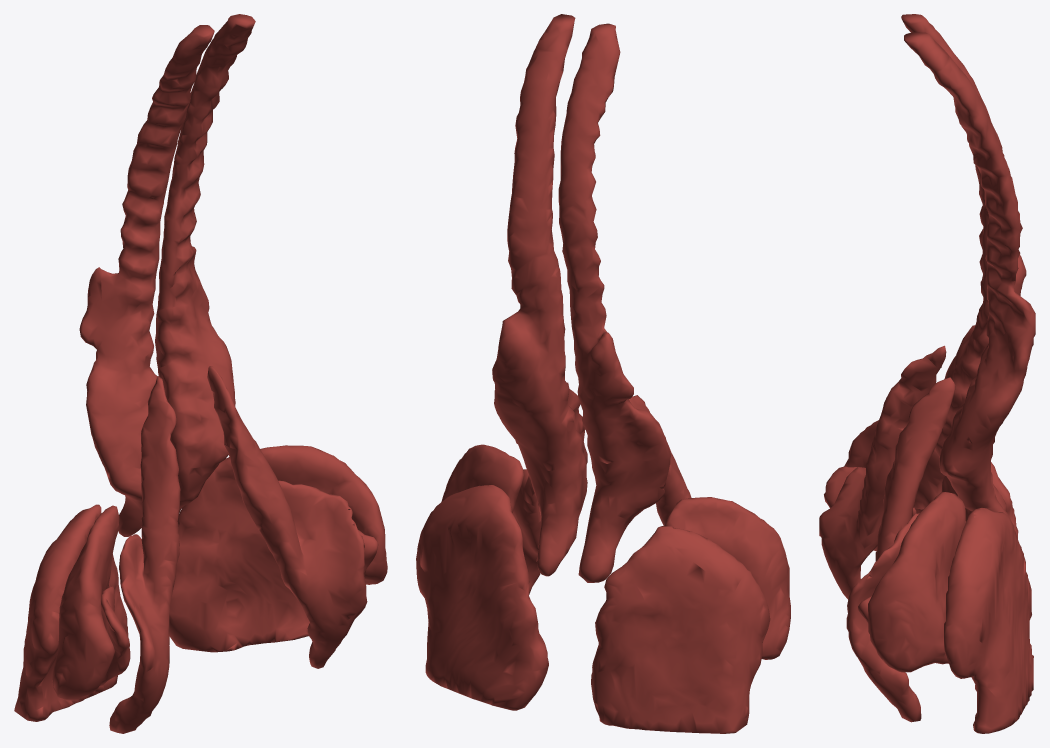
File: tsd_s0196_older_adult_female.muscular.LOD3.glb
3 views of the same model, side by side, from view 1: azimuth 30°, elevation 25°; view 2: azimuth 150°, elevation 25°; view 3: azimuth 270°, elevation 25° (orthographic). The views are drawn at different scales.
Parts seen in each view (by area): view 1: TSD_S0196.OLDER_ADULT.FEMALE.MUSCULAR.ERECTOR_SPINAE_AUTOCHT (×2), TSD_S0196.OLDER_ADULT.FEMALE.MUSCULAR.GLUTEUS_MAXIMUS.L, TSD_S0196.OLDER_ADULT.FEMALE.MUSCULAR.ILIOPSOAS.L, TSD_S0196.OLDER_ADULT.FEMALE.MUSCULAR.ILIOPSOAS.R, TSD_S0196.OLDER_ADULT.FEMALE.MUSCULAR.GLUTEUS_MAXIMUS.R, TSD_S0196.OLDER_ADULT.FEMALE.MUSCULAR.GLUTEUS_MEDIUS.R, TSD_S0196.OLDER_ADULT.FEMALE.MUSCULAR.GLUTEUS_MEDIUS.L, TSD_S0196.OLDER_ADULT.FEMALE.MUSCULAR.GLUTEUS_MINIMUS.R; view 2: TSD_S0196.OLDER_ADULT.FEMALE.MUSCULAR.ERECTOR_SPINAE_AUTOCHT (×2), TSD_S0196.OLDER_ADULT.FEMALE.MUSCULAR.GLUTEUS_MAXIMUS.R, TSD_S0196.OLDER_ADULT.FEMALE.MUSCULAR.GLUTEUS_MAXIMUS.L, TSD_S0196.OLDER_ADULT.FEMALE.MUSCULAR.GLUTEUS_MEDIUS.R, TSD_S0196.OLDER_ADULT.FEMALE.MUSCULAR.GLUTEUS_MEDIUS.L, TSD_S0196.OLDER_ADULT.FEMALE.MUSCULAR.ILIOPSOAS.L, TSD_S0196.OLDER_ADULT.FEMALE.MUSCULAR.ILIOPSOAS.R; view 3: TSD_S0196.OLDER_ADULT.FEMALE.MUSCULAR.ERECTOR_SPINAE_AUTOCHT (×2), TSD_S0196.OLDER_ADULT.FEMALE.MUSCULAR.GLUTEUS_MAXIMUS.L, TSD_S0196.OLDER_ADULT.FEMALE.MUSCULAR.GLUTEUS_MEDIUS.L, TSD_S0196.OLDER_ADULT.FEMALE.MUSCULAR.ILIOPSOAS.L, TSD_S0196.OLDER_ADULT.FEMALE.MUSCULAR.ILIOPSOAS.R, TSD_S0196.OLDER_ADULT.FEMALE.MUSCULAR.GLUTEUS_MEDIUS.R, TSD_S0196.OLDER_ADULT.FEMALE.MUSCULAR.GLUTEUS_MAXIMUS.R, TSD_S0196.OLDER_ADULT.FEMALE.MUSCULAR.GLUTEUS_MINIMUS.R.
Boxes of the visible parts, x1=… form: TSD_S0196.OLDER_ADULT.FEMALE.MUSCULAR.ERECTOR_SPINAE_AUTOCHT (×2): x1=79, y1=14, x2=255, y2=536; TSD_S0196.OLDER_ADULT.FEMALE.MUSCULAR.GLUTEUS_MAXIMUS.L: x1=169, y1=457, x2=309, y2=652; TSD_S0196.OLDER_ADULT.FEMALE.MUSCULAR.ILIOPSOAS.L: x1=207, y1=366, x2=367, y2=668; TSD_S0196.OLDER_ADULT.FEMALE.MUSCULAR.ILIOPSOAS.R: x1=109, y1=376, x2=180, y2=733; TSD_S0196.OLDER_ADULT.FEMALE.MUSCULAR.GLUTEUS_MAXIMUS.R: x1=14, y1=504, x2=128, y2=721; TSD_S0196.OLDER_ADULT.FEMALE.MUSCULAR.GLUTEUS_MEDIUS.R: x1=52, y1=505, x2=119, y2=700; TSD_S0196.OLDER_ADULT.FEMALE.MUSCULAR.GLUTEUS_MEDIUS.L: x1=260, y1=445, x2=387, y2=584; TSD_S0196.OLDER_ADULT.FEMALE.MUSCULAR.GLUTEUS_MINIMUS.R: x1=100, y1=586, x2=130, y2=685; TSD_S0196.OLDER_ADULT.FEMALE.MUSCULAR.ERECTOR_SPINAE_AUTOCHT (×2): x1=492, y1=14, x2=670, y2=582; TSD_S0196.OLDER_ADULT.FEMALE.MUSCULAR.GLUTEUS_MAXIMUS.R: x1=591, y1=526, x2=770, y2=733; TSD_S0196.OLDER_ADULT.FEMALE.MUSCULAR.GLUTEUS_MAXIMUS.L: x1=416, y1=485, x2=548, y2=710; TSD_S0196.OLDER_ADULT.FEMALE.MUSCULAR.GLUTEUS_MEDIUS.R: x1=664, y1=497, x2=790, y2=659; TSD_S0196.OLDER_ADULT.FEMALE.MUSCULAR.GLUTEUS_MEDIUS.L: x1=441, y1=444, x2=523, y2=512; TSD_S0196.OLDER_ADULT.FEMALE.MUSCULAR.ILIOPSOAS.L: x1=512, y1=382, x2=587, y2=594; TSD_S0196.OLDER_ADULT.FEMALE.MUSCULAR.ILIOPSOAS.R: x1=629, y1=395, x2=691, y2=525; TSD_S0196.OLDER_ADULT.FEMALE.MUSCULAR.ERECTOR_SPINAE_AUTOCHT (×2): x1=901, y1=14, x2=1035, y2=528; TSD_S0196.OLDER_ADULT.FEMALE.MUSCULAR.GLUTEUS_MAXIMUS.L: x1=944, y1=508, x2=1033, y2=733; TSD_S0196.OLDER_ADULT.FEMALE.MUSCULAR.GLUTEUS_MEDIUS.L: x1=868, y1=492, x2=965, y2=672; TSD_S0196.OLDER_ADULT.FEMALE.MUSCULAR.ILIOPSOAS.L: x1=846, y1=377, x2=955, y2=722; TSD_S0196.OLDER_ADULT.FEMALE.MUSCULAR.ILIOPSOAS.R: x1=819, y1=345, x2=946, y2=599; TSD_S0196.OLDER_ADULT.FEMALE.MUSCULAR.GLUTEUS_MEDIUS.R: x1=844, y1=420, x2=944, y2=550; TSD_S0196.OLDER_ADULT.FEMALE.MUSCULAR.GLUTEUS_MAXIMUS.R: x1=915, y1=462, x2=1018, y2=538; TSD_S0196.OLDER_ADULT.FEMALE.MUSCULAR.GLUTEUS_MINIMUS.R: x1=824, y1=466, x2=916, y2=550.
Size of the model in its own units: 0.2949 by 0.5507 by 0.1668.
